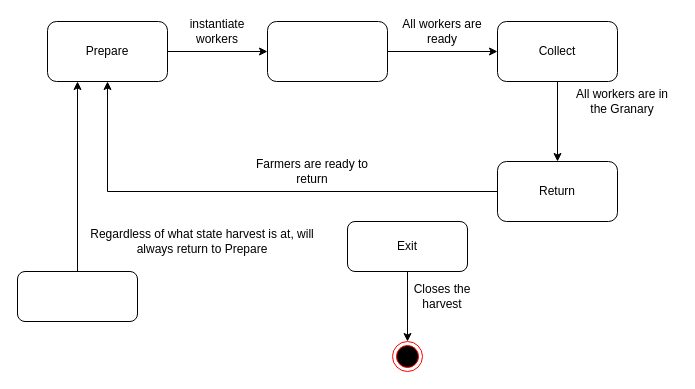
Image size: 695x389. Some labels were removed from this diagram. The shapes that lost their labels are listed below. From the top down, each one's centre as x and y in pixels, then its label:
At pixel 327 51: "Start".
At pixel 77 296: "Stop".
